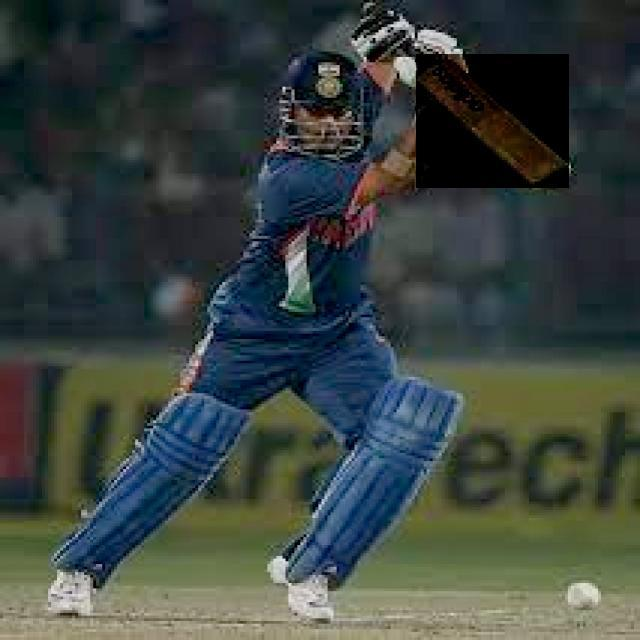bat: (420, 55, 570, 191), (524, 165, 568, 187)
